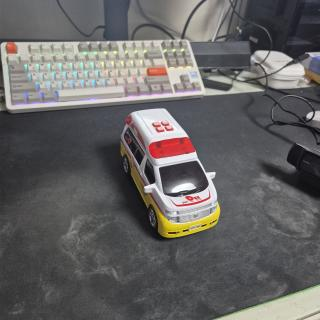Ambulance: (121, 109, 220, 237)
